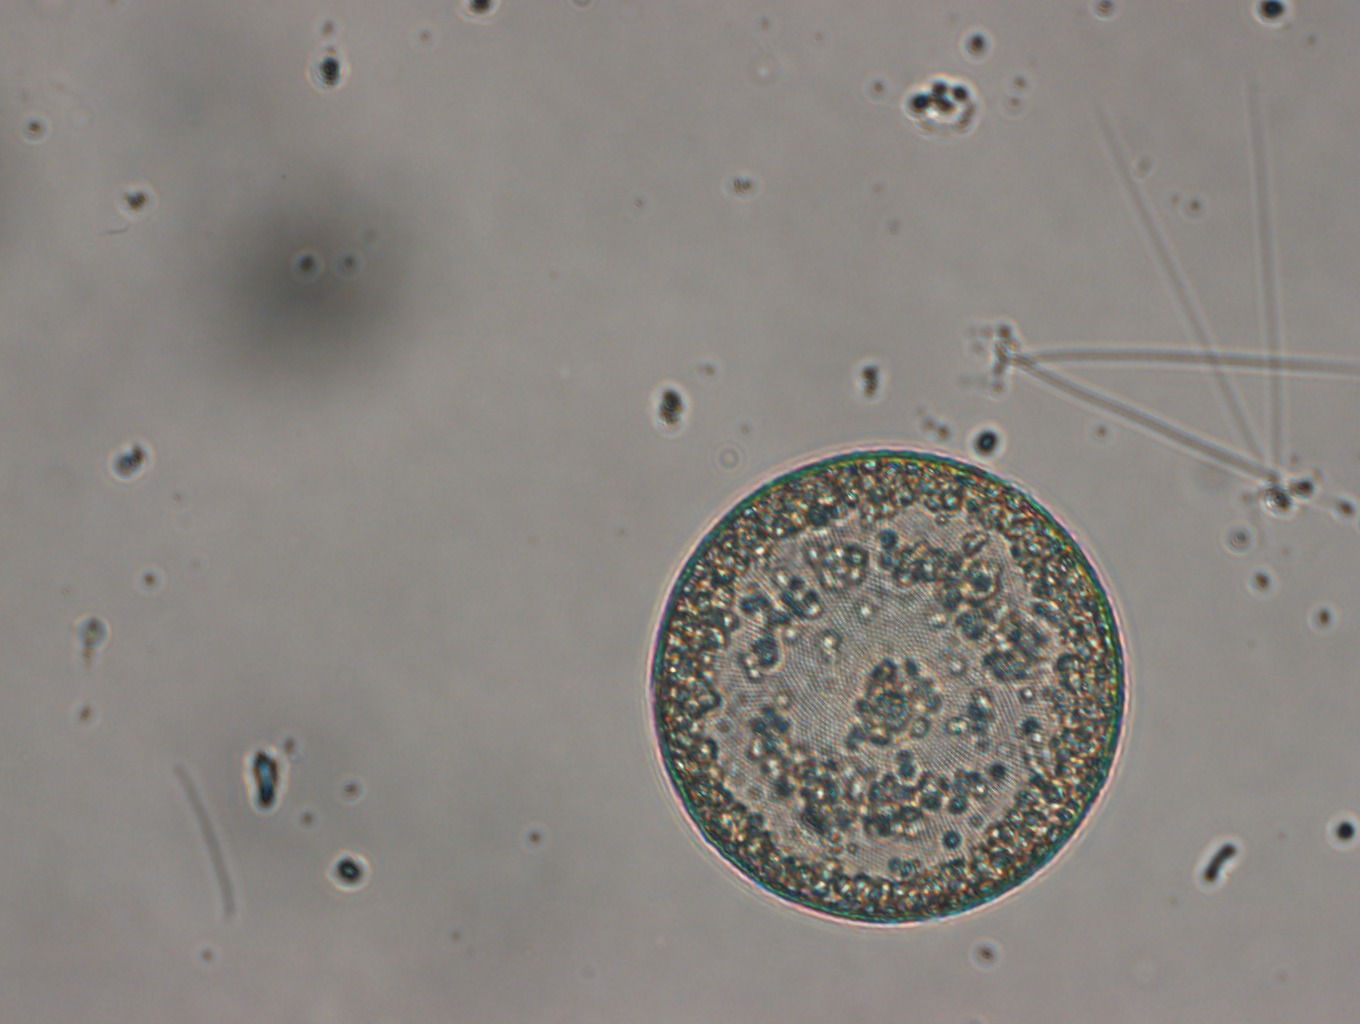coscinodiscus: (643, 444, 1127, 929)
